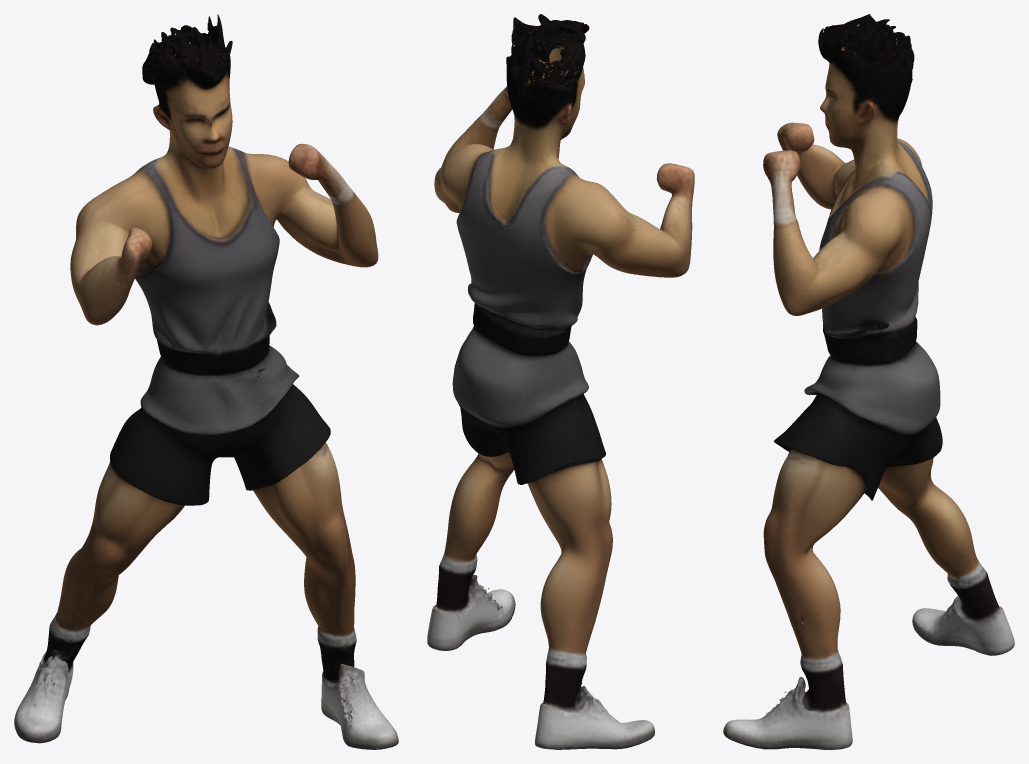
File: trellis2-concept2-high.remesh-cleanup.glb
3 renders of one model, left to right at view 1: azimuth 30°, elevation 25°; view 2: azimuth 150°, elevation 25°; view 3: azimuth 270°, elevation 25°, orthographic. The views are drawn at different scales.
Visible parts, largest first — view 1: world; view 2: world; view 3: world.
Part boxes in pixels (x1,y1,x2,y2): world: (14,14,398,749); world: (427,14,694,749); world: (723,14,1014,749).
Size of the model in its own units: 0.4224 by 0.999 by 0.3933.
Materials: 1 (1 with a texture image).
